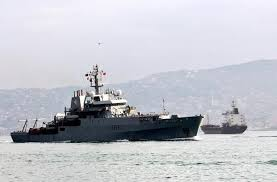tau_muctieu: (16, 69, 202, 140)
